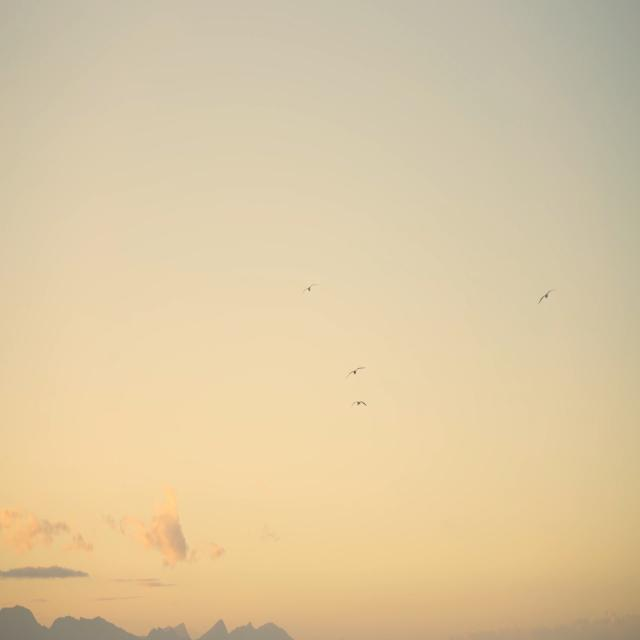bird: (339, 352, 368, 387), (532, 282, 556, 308), (350, 392, 368, 410)
